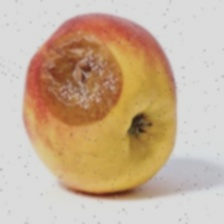apple: (13, 10, 214, 189)
